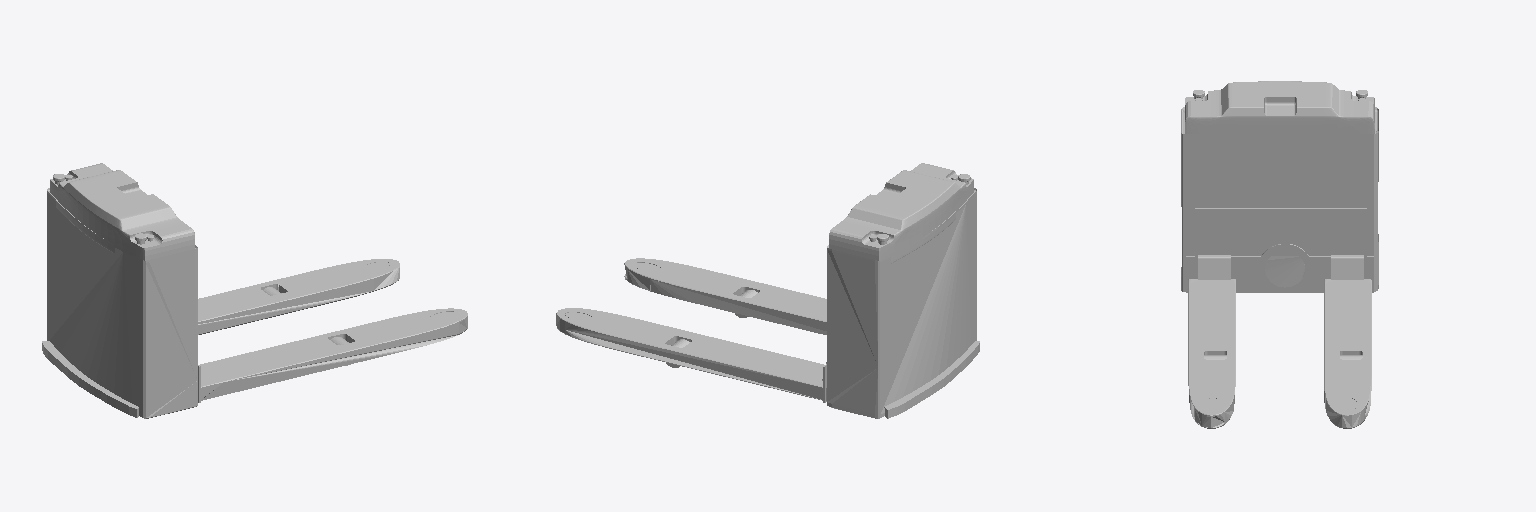
Rendered from MMC1000.obj.
The picture shows the model from 3 angles: view 1: azimuth 30°, elevation 25°; view 2: azimuth 150°, elevation 25°; view 3: azimuth 270°, elevation 25°; orthographic projection.
Visible parts, largest first — view 1: 布尔; view 2: 布尔; view 3: 布尔.
Part boxes in pixels (x1,y1,x2,y2): 布尔: (42,163,467,418); 布尔: (556,163,979,418); 布尔: (1181,81,1378,428).
Bounding box in the file's own units: 104 × 53.52 × 50.61.